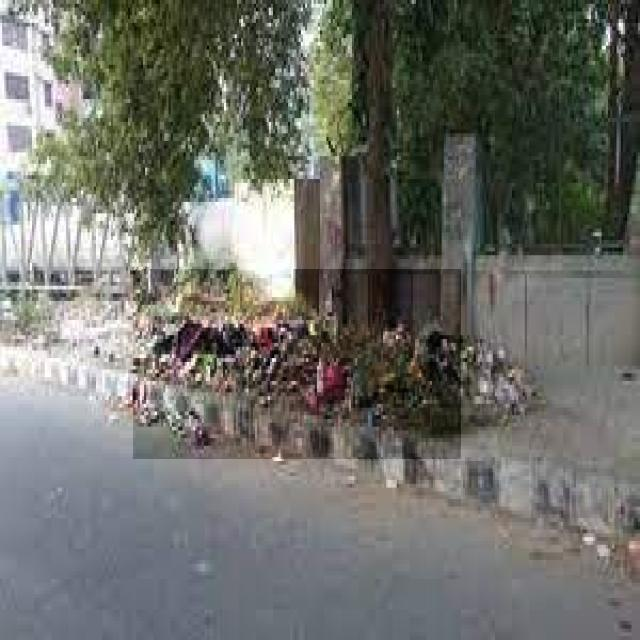dumping: (134, 269, 462, 459)
